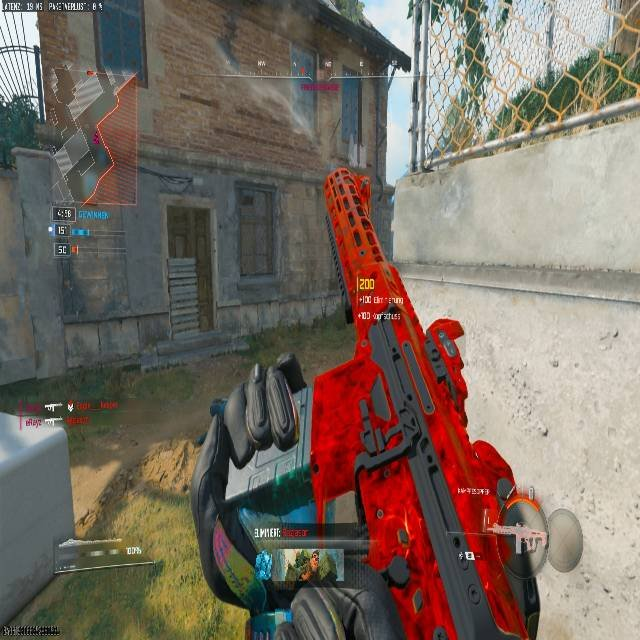player: (255, 550, 272, 580)
